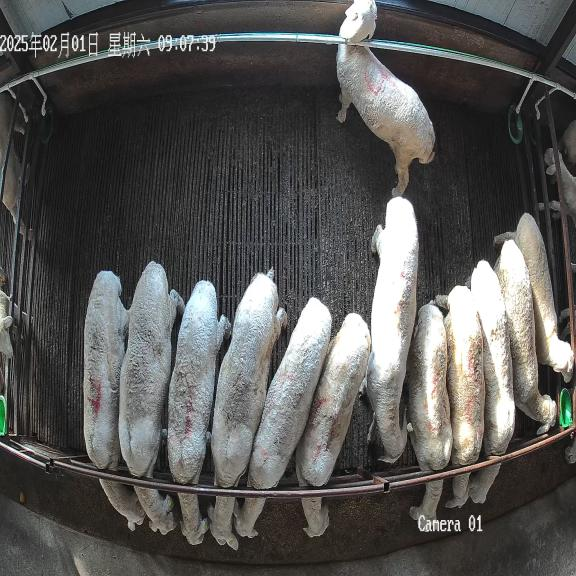eating: (234, 298, 332, 538), (208, 269, 287, 550), (119, 261, 185, 534), (295, 313, 370, 537), (168, 280, 231, 545), (84, 271, 144, 531), (468, 260, 515, 504), (435, 285, 485, 508), (407, 301, 453, 532)
stand: (336, 0, 435, 196), (360, 196, 419, 464), (494, 213, 574, 382), (495, 241, 556, 433)
